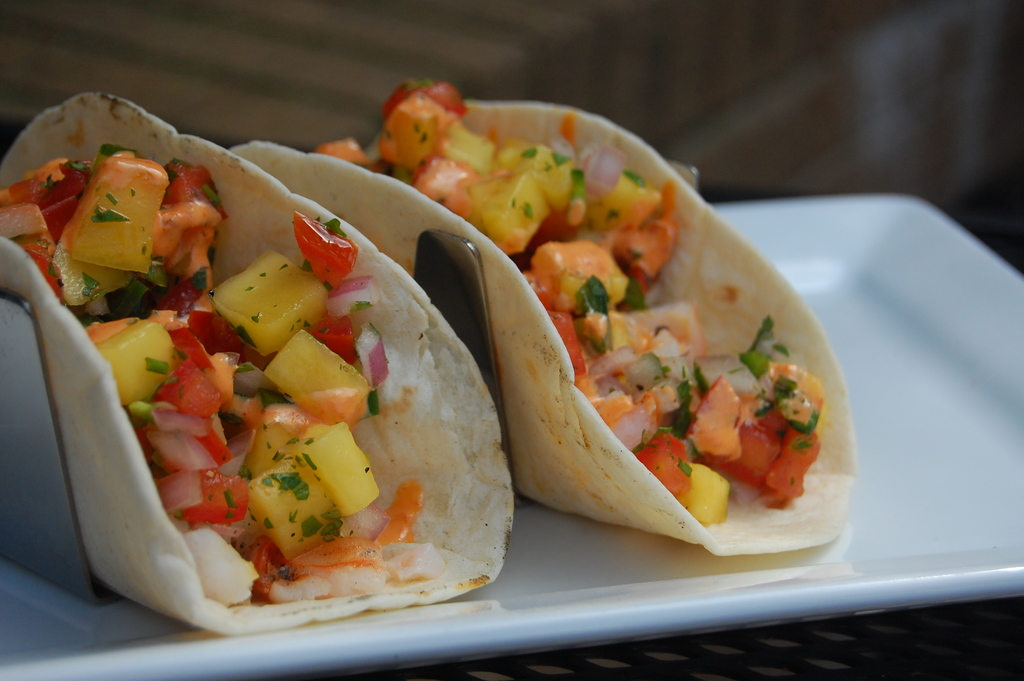taco: (230, 91, 863, 560), (0, 88, 515, 634)
